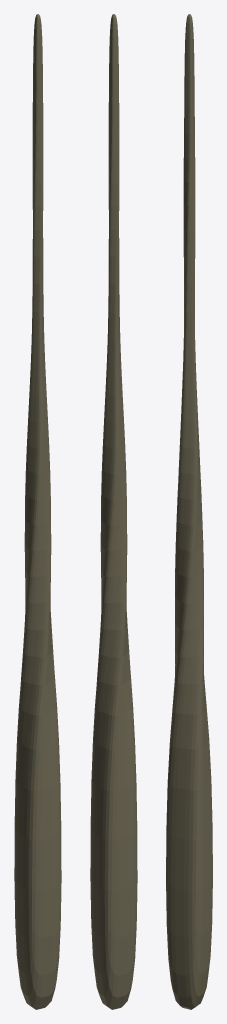
The model's file is Wand.fbx.
The picture shows the model from 3 angles, left to right: view 1: azimuth 30°, elevation 25°; view 2: azimuth 210°, elevation 25°; view 3: azimuth 330°, elevation 25°; orthographic projection.
Visible parts, largest first — view 1: Cube; view 2: Cube; view 3: Cube.
Part boxes in pixels (x1=…): Cube: x1=14, y1=14, x2=61, y2=1009; Cube: x1=90, y1=14, x2=137, y2=1009; Cube: x1=166, y1=14, x2=212, y2=1009.
Bounding box in the file's own units: 34.62 × 932 × 34.62.
